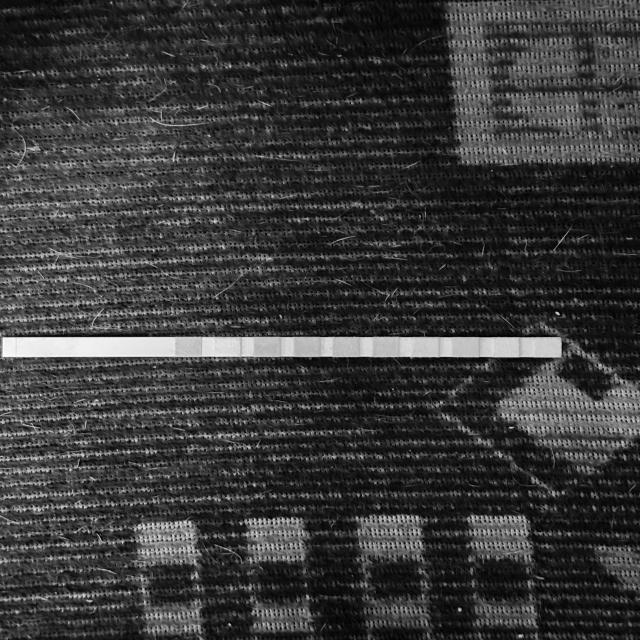Bilirubin: (215, 337, 241, 357)
Blood: (334, 337, 359, 357)
Glucose: (176, 337, 202, 357)
Ketone: (254, 337, 280, 357)
Leukocytes: (534, 337, 561, 357)
Nitrite: (494, 338, 520, 358)
Protein: (412, 337, 439, 356)
SpGravity: (294, 337, 320, 357)
Urobilinogen: (452, 338, 479, 357)
background: (0, 0, 640, 640)
pH: (372, 337, 398, 357)
strip: (2, 337, 562, 358)
